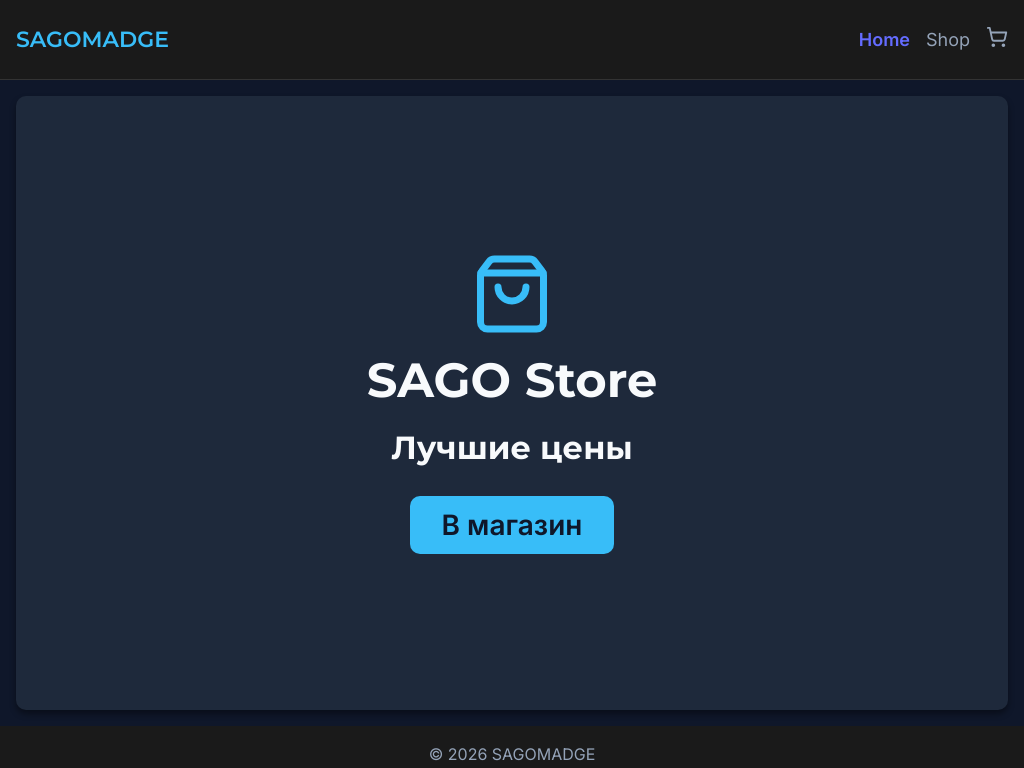
Test: routes › переходит с главной страницы в магазин
The width and height of the screenshot is (1024, 768).
Expected: the heading "SAGO Store" is shown, [367,344,657,416]
Click the link "В магазин". click: click(512, 525)
box: [410,496,614,554]
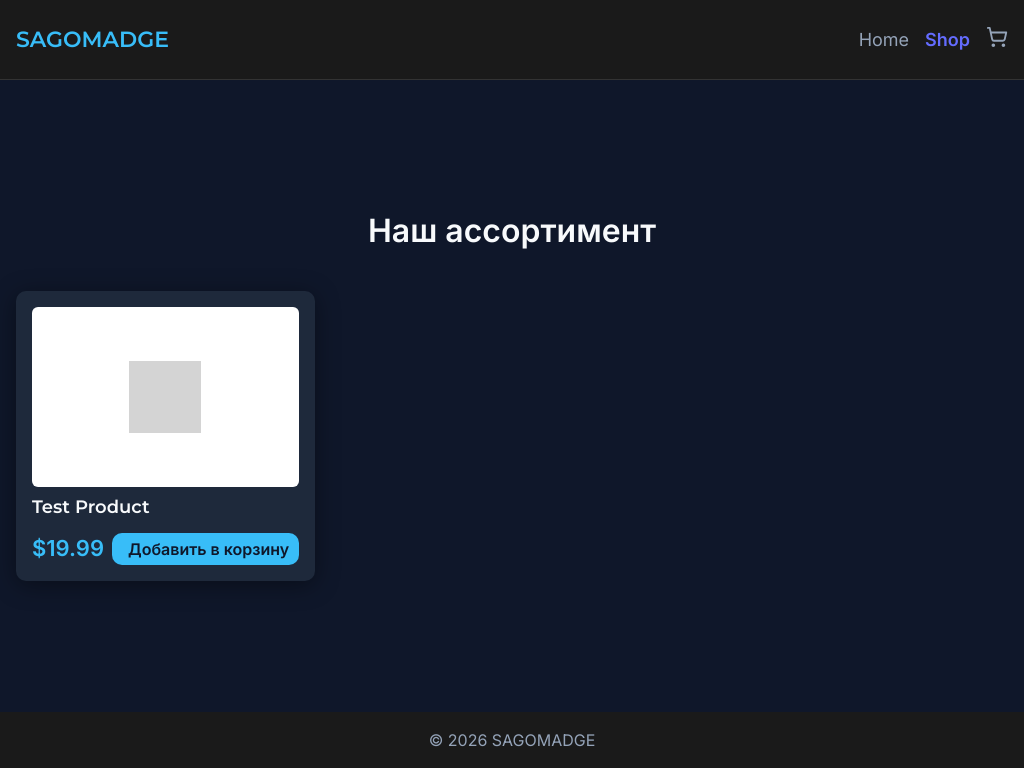
Result: the heading "Наш ассортимент" is shown at [368,211,656,250]
Result: the heading "SAGO Store" is gone
